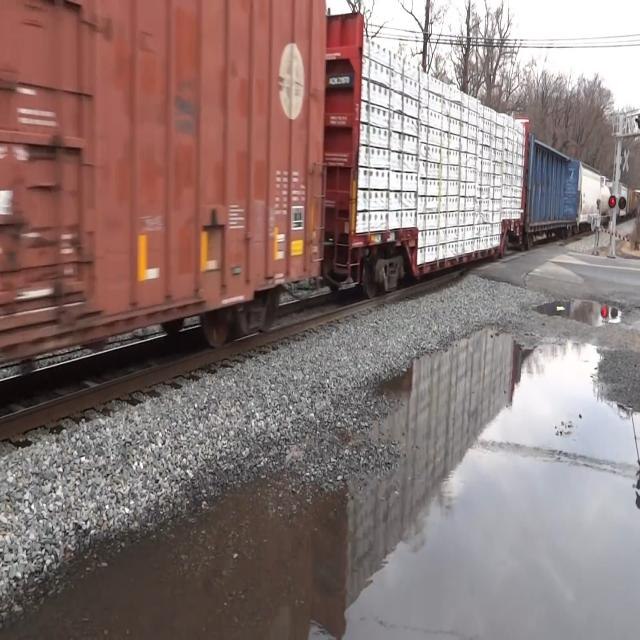boxcar: (0, 0, 329, 393), (529, 131, 578, 244)
cargo: (362, 32, 524, 250)
flatcar_bulkhead: (329, 5, 531, 298)
